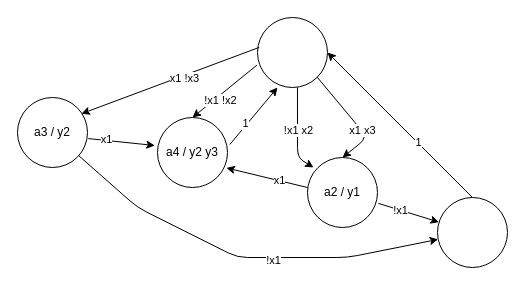
The diagram is 525 pixels wide and 285 high, and some of its shapes have lost their labels. The shapes that lost their labels are listed below. From the top down, each one's centre as x and y in pixels, then its label:
At [292,52]: "a1 / -".
At [472,232]: "a5 / y1 y2".
